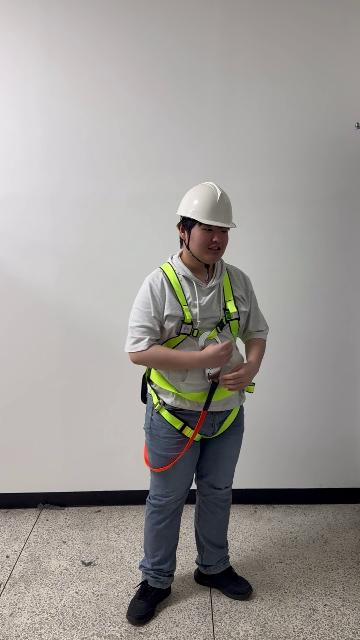helmet_worn: (174, 181, 238, 229)
shoe_not_worn: (126, 580, 172, 626), (193, 564, 251, 600)
vest_worn: (140, 261, 255, 441)
